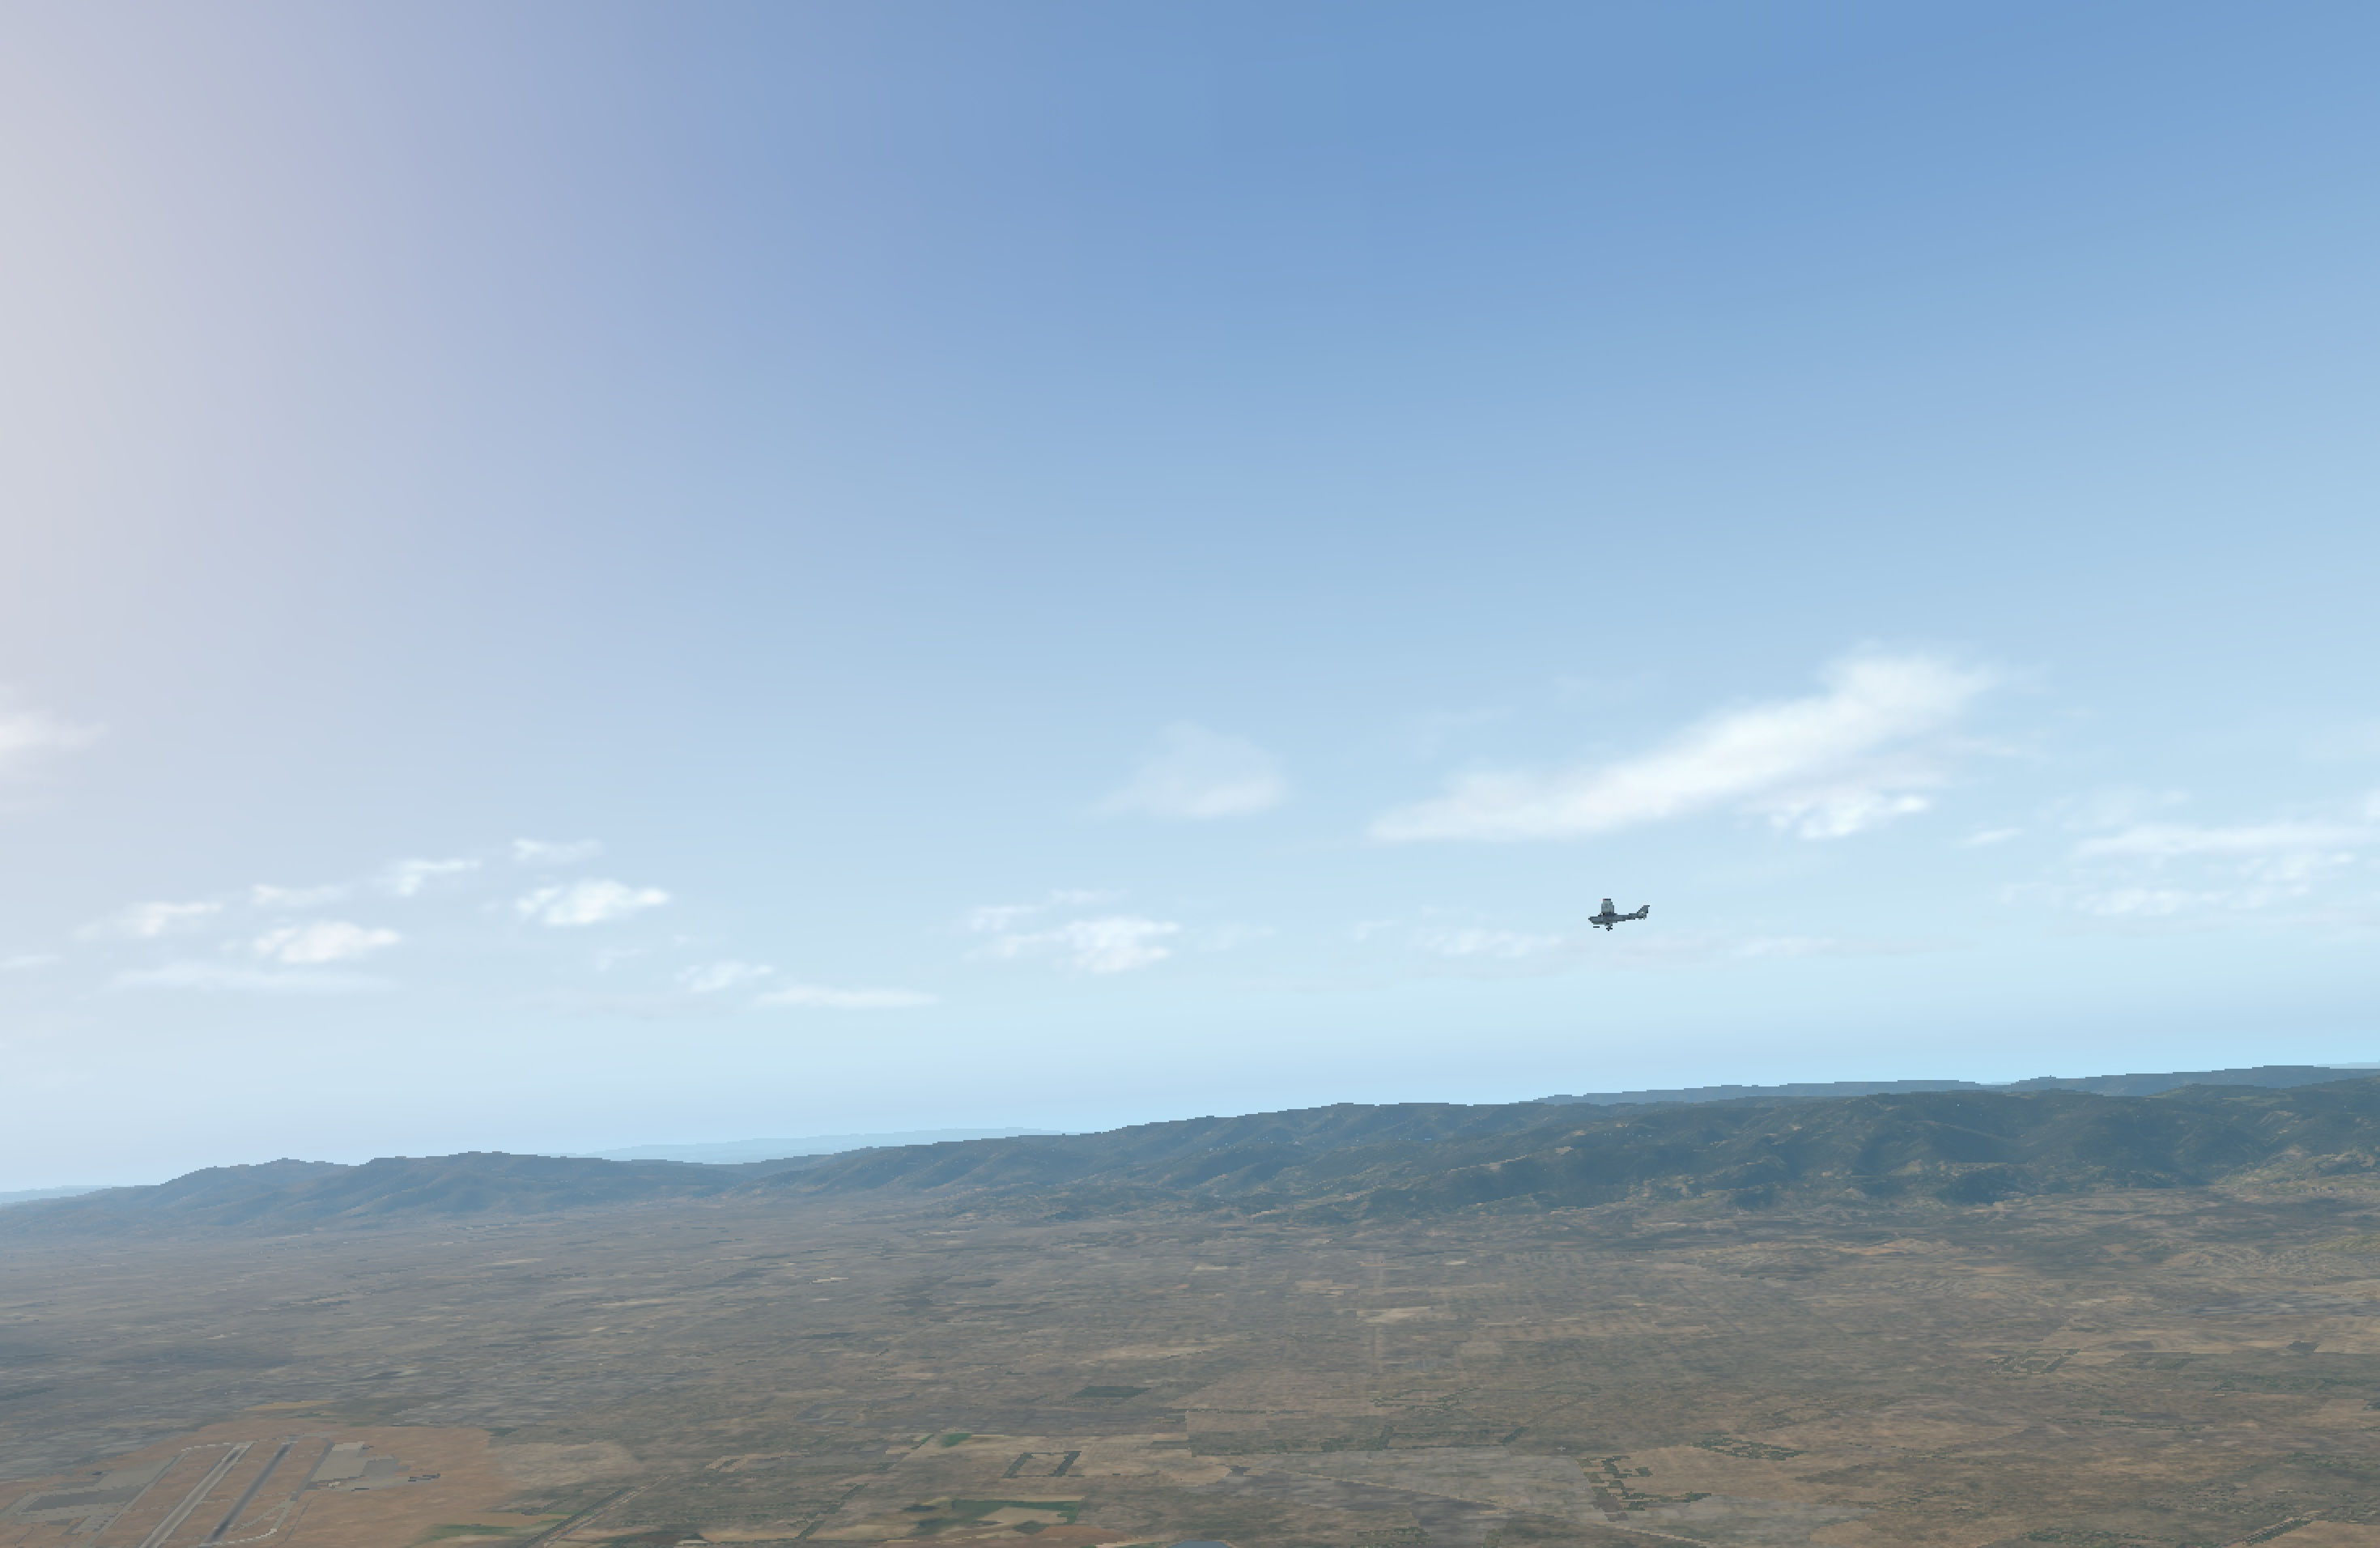aircraft: (1577, 908, 1636, 928)
